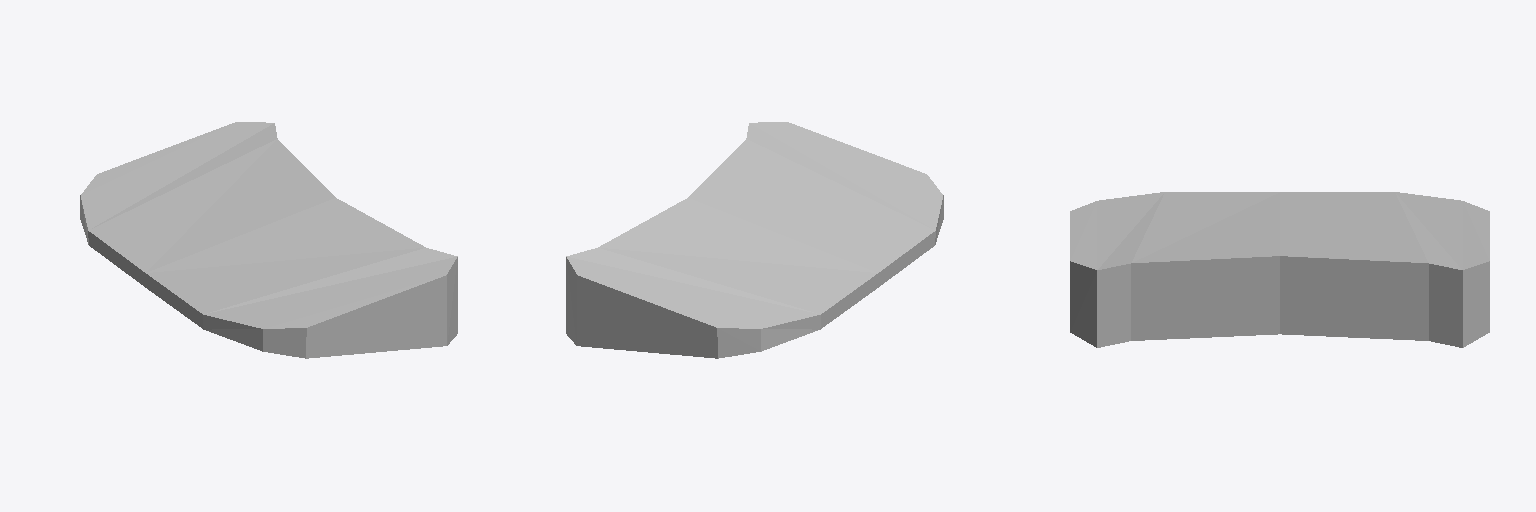
The model's file is BathroomBinPedal.obj.
3 renders of one model, left to right at view 1: azimuth 30°, elevation 25°; view 2: azimuth 150°, elevation 25°; view 3: azimuth 270°, elevation 25°, orthographic.
Parts seen in each view (by area): view 1: SM_Bin_Pedal; view 2: SM_Bin_Pedal; view 3: SM_Bin_Pedal.
Part boxes in pixels (x1,y1,x2,y2): SM_Bin_Pedal: (80,122,457,358); SM_Bin_Pedal: (566,122,943,358); SM_Bin_Pedal: (1070,192,1489,347).
Size of the model in its own units: 0.0413 by 0.0141 by 0.068.